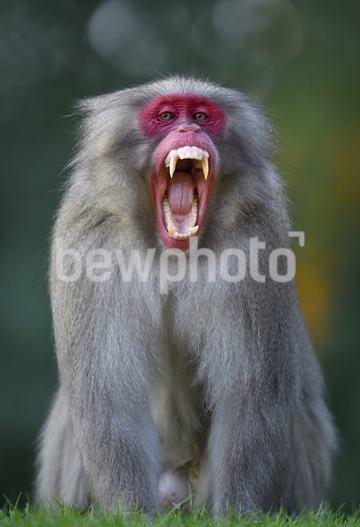monkey: (40, 75, 337, 518)
